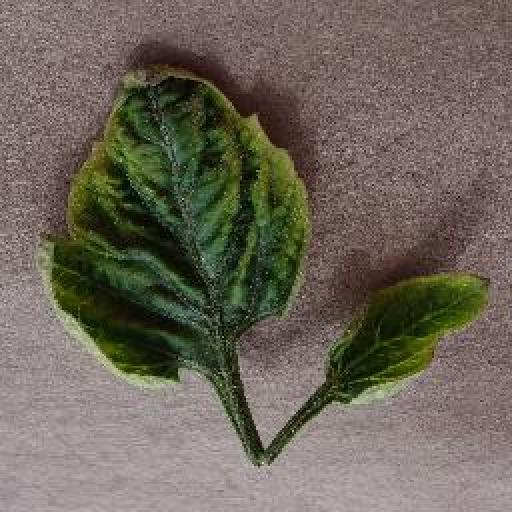Yellow Leaf Curl Virus: (38, 61, 311, 387), (328, 268, 499, 412)
